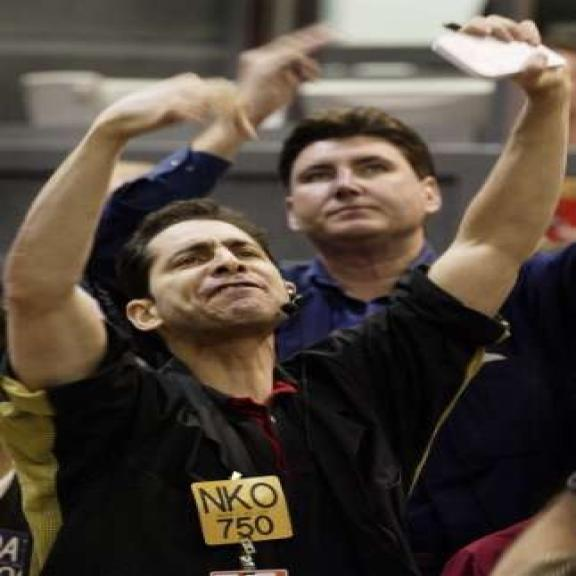face: (288, 125, 457, 256), (128, 224, 304, 349)
